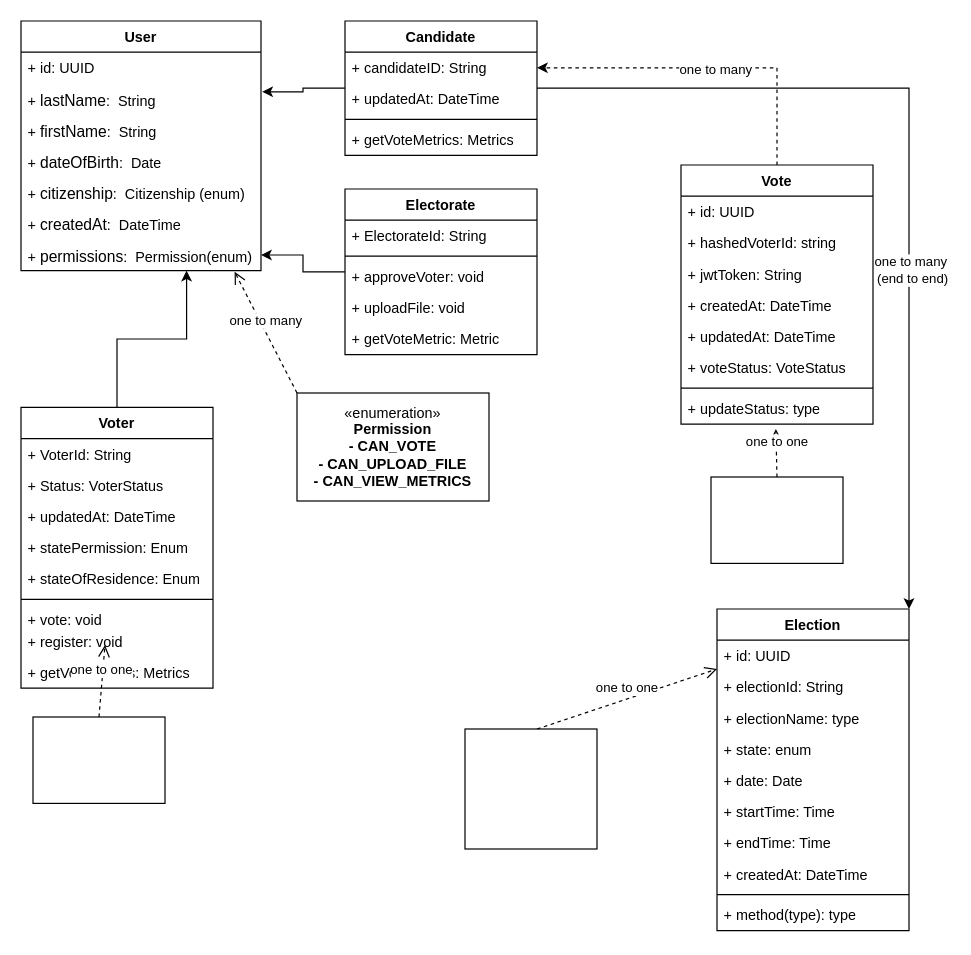
The diagram is 971 pixels wide and 955 high, and some of its shapes have lost their labels. Each missing label, with the centre of its shape:
«enumeration» Category - PRESIDENTIAL - GUBERNATIORIAL: (x=530, y=788)
«enumeration» VotersStatus - PENDING - APPROVED: (x=98, y=759)
«enumeration» VoteStatus - DEFAULTED - VOTED: (x=776, y=519)
